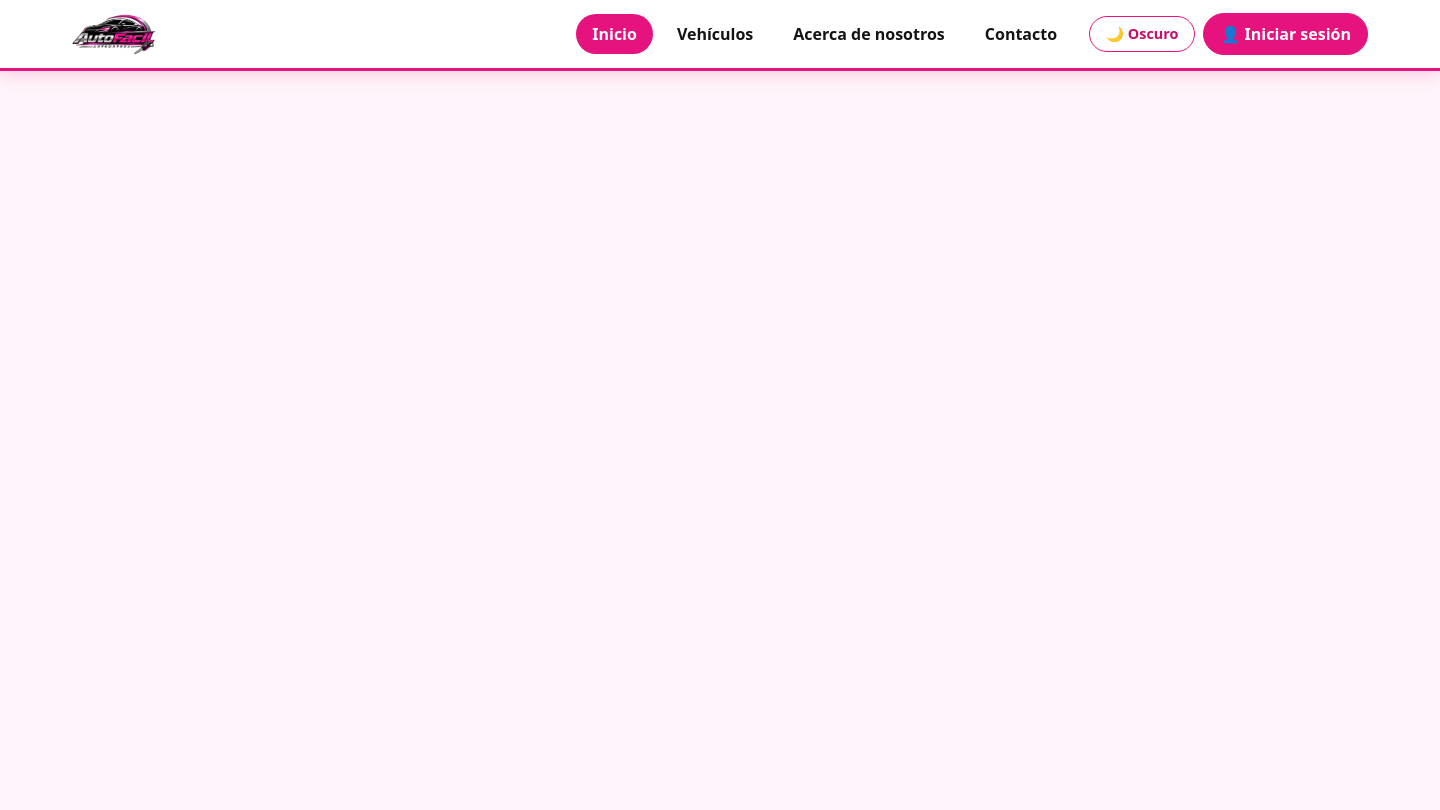
it: Navbar › alterna el modo claro/oscuro
Click the button with aria-label "modo claro y oscuro" at (1142,34), box [1089,16,1195,52]
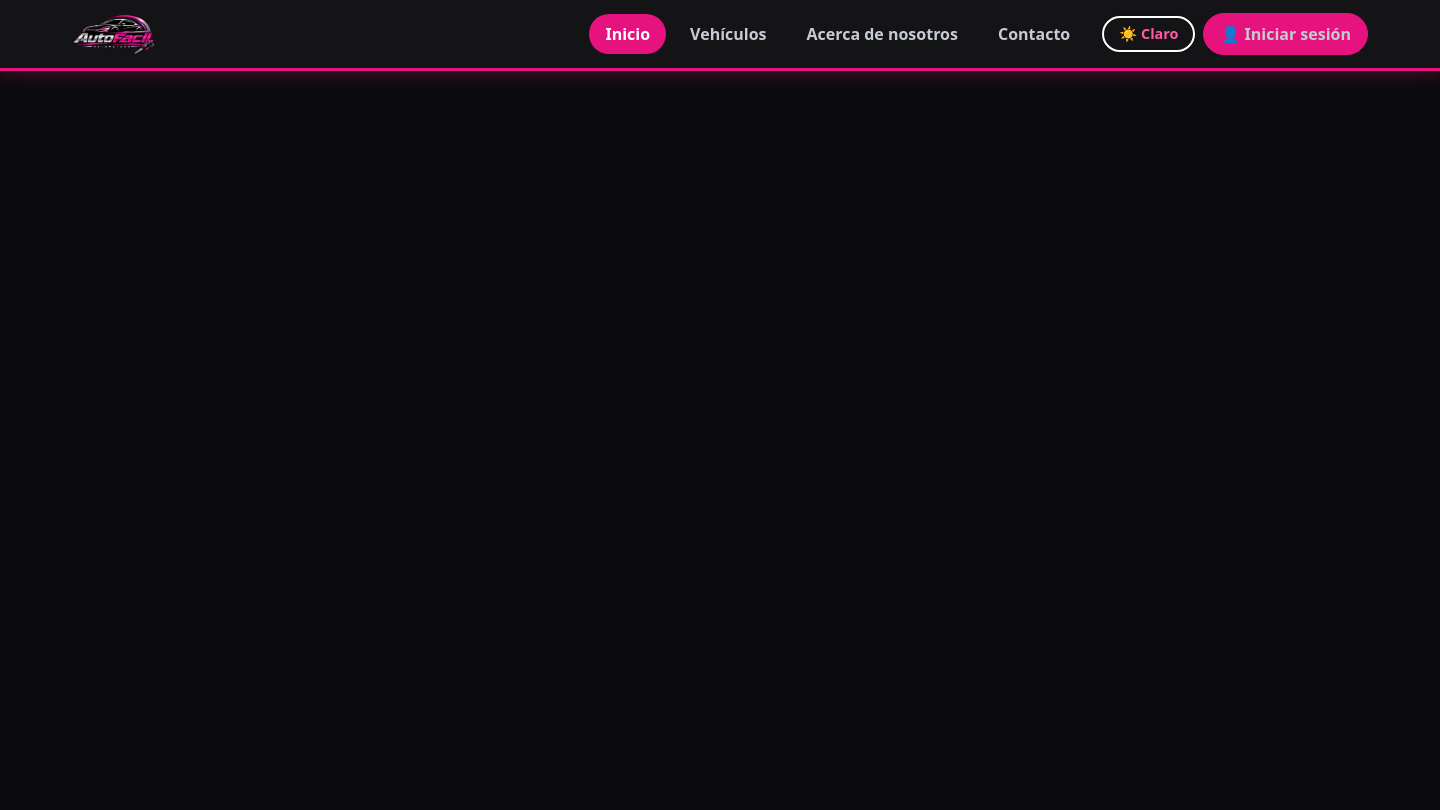
Result: the button with aria-label "modo claro y oscuro" shows "Claro" at [1102,16,1195,52]
